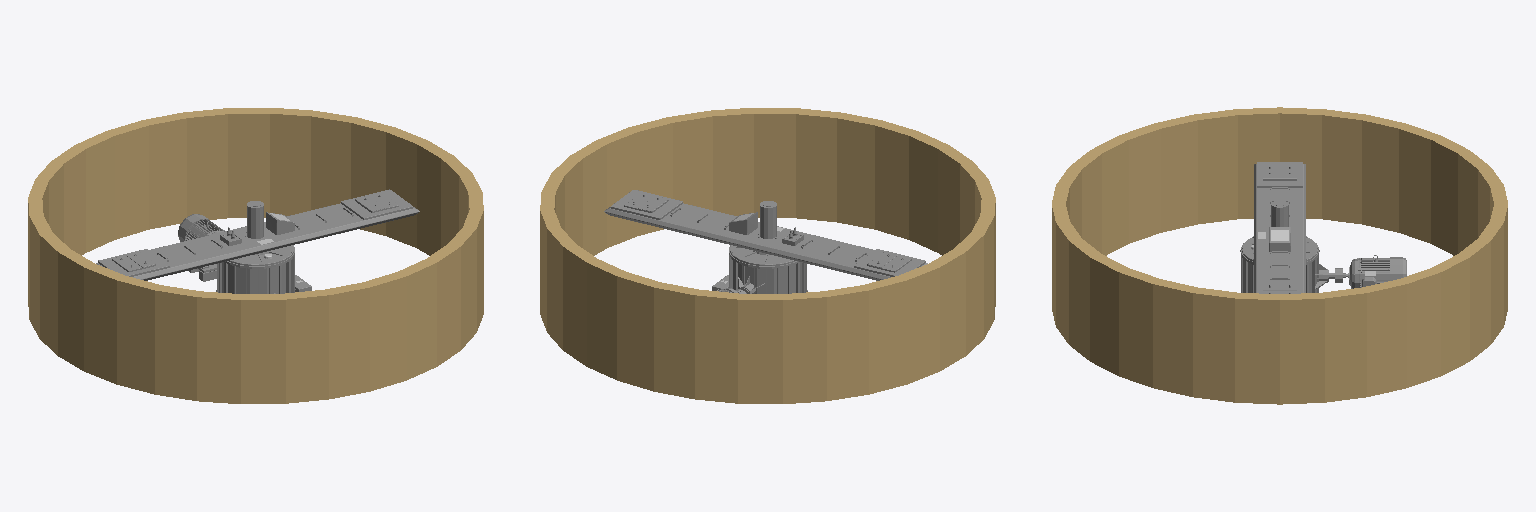
File: 13LXJ.obj
3 views of the same model, side by side, from view 1: azimuth 30°, elevation 25°; view 2: azimuth 150°, elevation 25°; view 3: azimuth 270°, elevation 25° (orthographic).
Parts seen in each view (by area): view 1: WallYellow, Metal_02_01, Metal_02, Metal_05_01, Metal_Blue; view 2: WallYellow, Metal_02_01, Metal_02, Metal_05_01; view 3: WallYellow, Metal_02_01, Metal_02, Metal_05_01, Metal_Blue.
Boxes of the visible parts, <box> form: WallYellow: <box>28,108,483,403</box>; Metal_02_01: <box>96,203,419,280</box>; Metal_02: <box>216,201,311,293</box>; Metal_05_01: <box>98,189,412,276</box>; Metal_Blue: <box>178,214,224,241</box>; WallYellow: <box>540,108,995,403</box>; Metal_02_01: <box>604,203,927,280</box>; Metal_02: <box>712,201,807,293</box>; Metal_05_01: <box>611,190,925,276</box>; WallYellow: <box>1052,107,1507,404</box>; Metal_02_01: <box>1254,164,1305,292</box>; Metal_02: <box>1240,200,1327,292</box>; Metal_05_01: <box>1257,162,1302,293</box>; Metal_Blue: <box>1349,257,1406,288</box>.
Bounding box in the file's own units: 145 × 36.46 × 145.